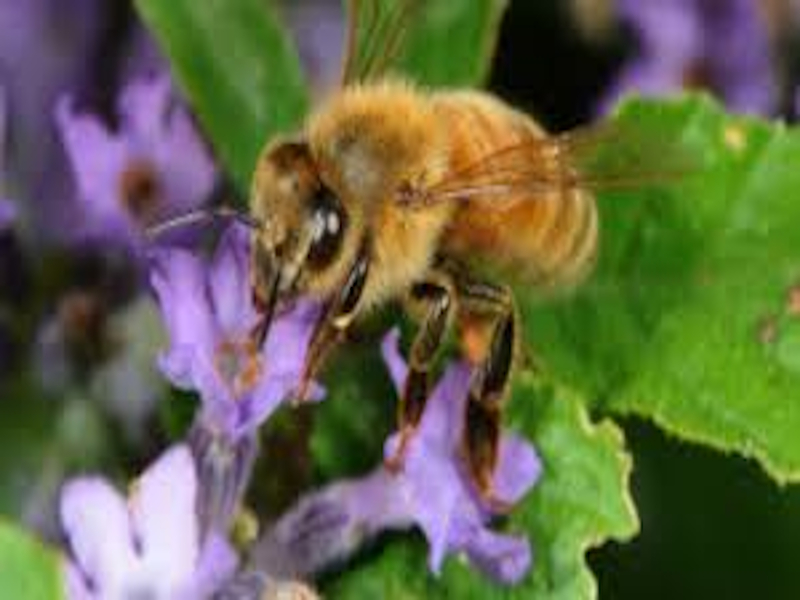abeja: (147, 3, 691, 498)
